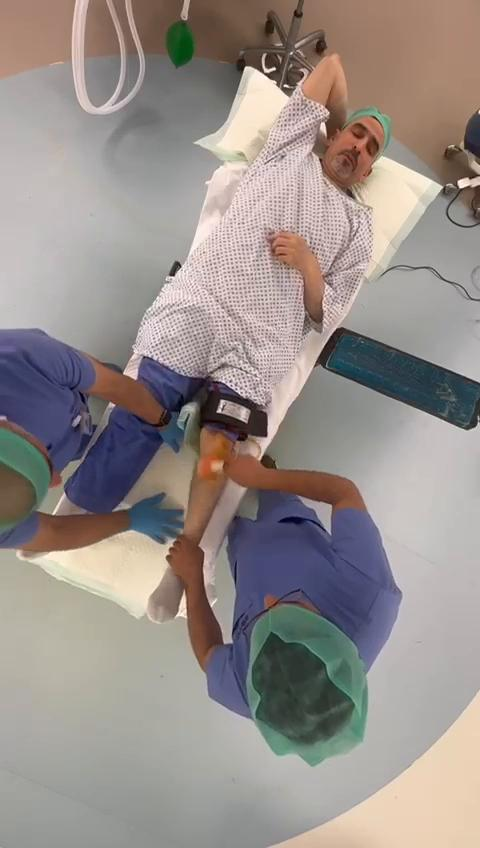bed: (29, 66, 439, 616)
patient: (66, 55, 391, 541)
prepstick: (197, 455, 225, 479)
tourniquet: (200, 391, 268, 436)
